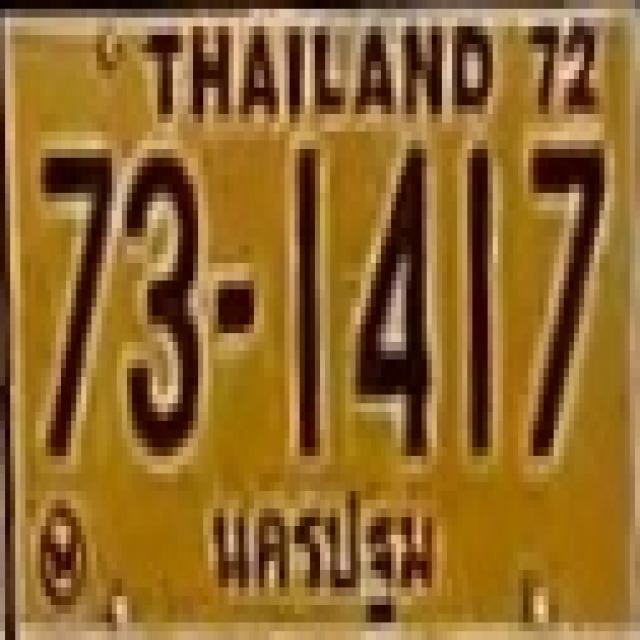1: (292, 144, 318, 452), (462, 140, 488, 447)
3: (124, 149, 196, 447)
4: (351, 140, 426, 447)
7: (528, 140, 600, 447), (38, 140, 109, 447)
NPT: (201, 471, 445, 640)
